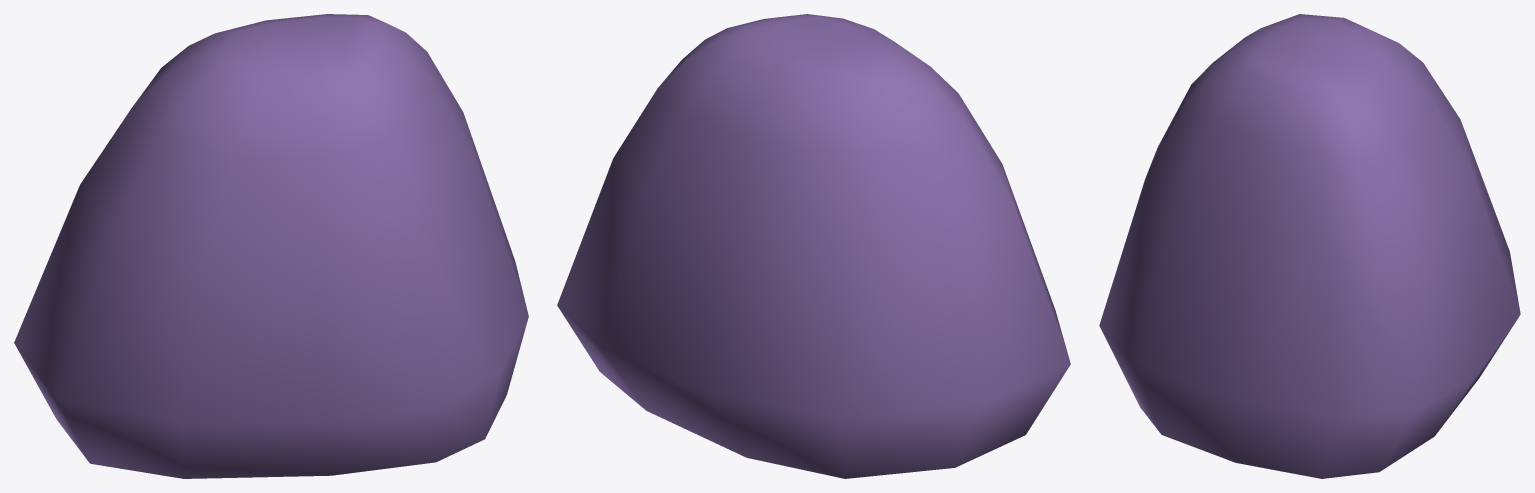
Rendered from Flag_05.fbx.
3 views of the same model, side by side, from view 1: azimuth 30°, elevation 25°; view 2: azimuth 150°, elevation 25°; view 3: azimuth 270°, elevation 25° (orthographic). The views are drawn at different scales.
Visible parts, largest first — view 1: Flag_05; view 2: Flag_05; view 3: Flag_05.
Part boxes in pixels (x1=…): Flag_05: x1=14, y1=14, x2=528, y2=478; Flag_05: x1=557, y1=14, x2=1070, y2=478; Flag_05: x1=1099, y1=14, x2=1520, y2=478.
Size of the model in its own units: 35.24 by 25.54 by 28.61.
